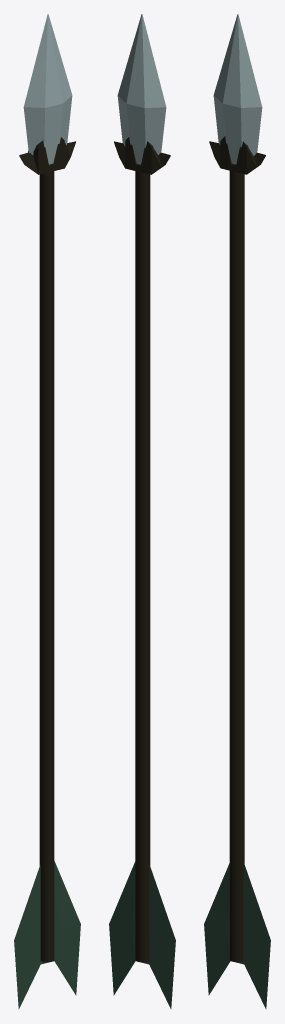
File: IceArrow.FBX
3 renders of one model, left to right at view 1: azimuth 30°, elevation 25°; view 2: azimuth 150°, elevation 25°; view 3: azimuth 330°, elevation 25°, orthographic.
Parts seen in each view (by area): view 1: Cylinder01, Box002, Box01, Cylinder02; view 2: Cylinder01, Box002, Box01, Cylinder02; view 3: Cylinder01, Box002, Box01, Cylinder02.
Boxes of the visible parts, <box> form: Cylinder01: <box>39,171,54,962</box>; Box002: <box>14,861,80,1009</box>; Box01: <box>23,14,72,164</box>; Cylinder02: <box>19,137,75,174</box>; Cylinder01: <box>135,171,150,962</box>; Box002: <box>109,862,175,1009</box>; Box01: <box>117,14,166,164</box>; Cylinder02: <box>114,137,170,174</box>; Cylinder01: <box>229,171,244,962</box>; Box002: <box>204,862,270,1009</box>; Box01: <box>213,14,262,164</box>; Cylinder02: <box>209,136,265,174</box>.
Size of the model in its own units: 6.64 by 93.76 by 2.16.
